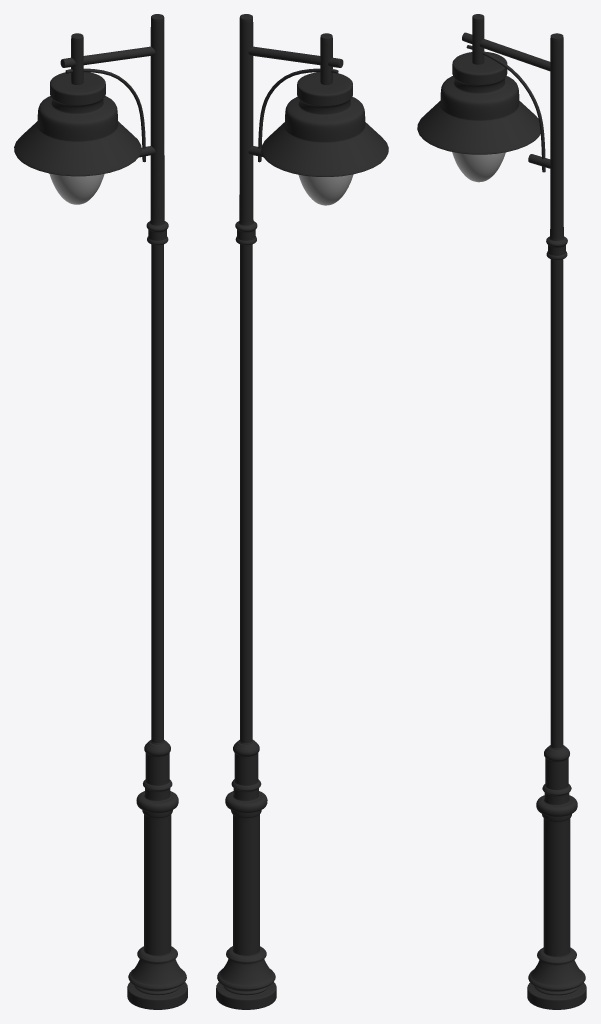
File: Street Lamp.fbx
The picture shows the model from 3 angles, left to right: view 1: azimuth 30°, elevation 25°; view 2: azimuth 150°, elevation 25°; view 3: azimuth 330°, elevation 25°; orthographic projection.
Parts seen in each view (by area): view 1: Object_4.003; view 2: Object_4.003; view 3: Object_4.003.
Boxes of the visible parts, left/top/right/bottom form: Object_4.003: left=14, top=14, right=187, bottom=1009; Object_4.003: left=216, top=14, right=388, bottom=1009; Object_4.003: left=417, top=14, right=586, bottom=1009.
Size of the model in its own units: 339 by 492 by 2867.
